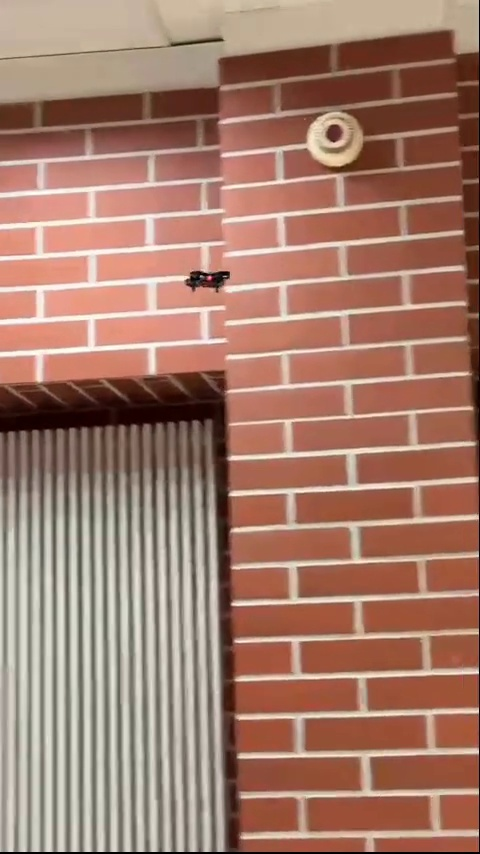drone: (186, 268, 233, 288)
